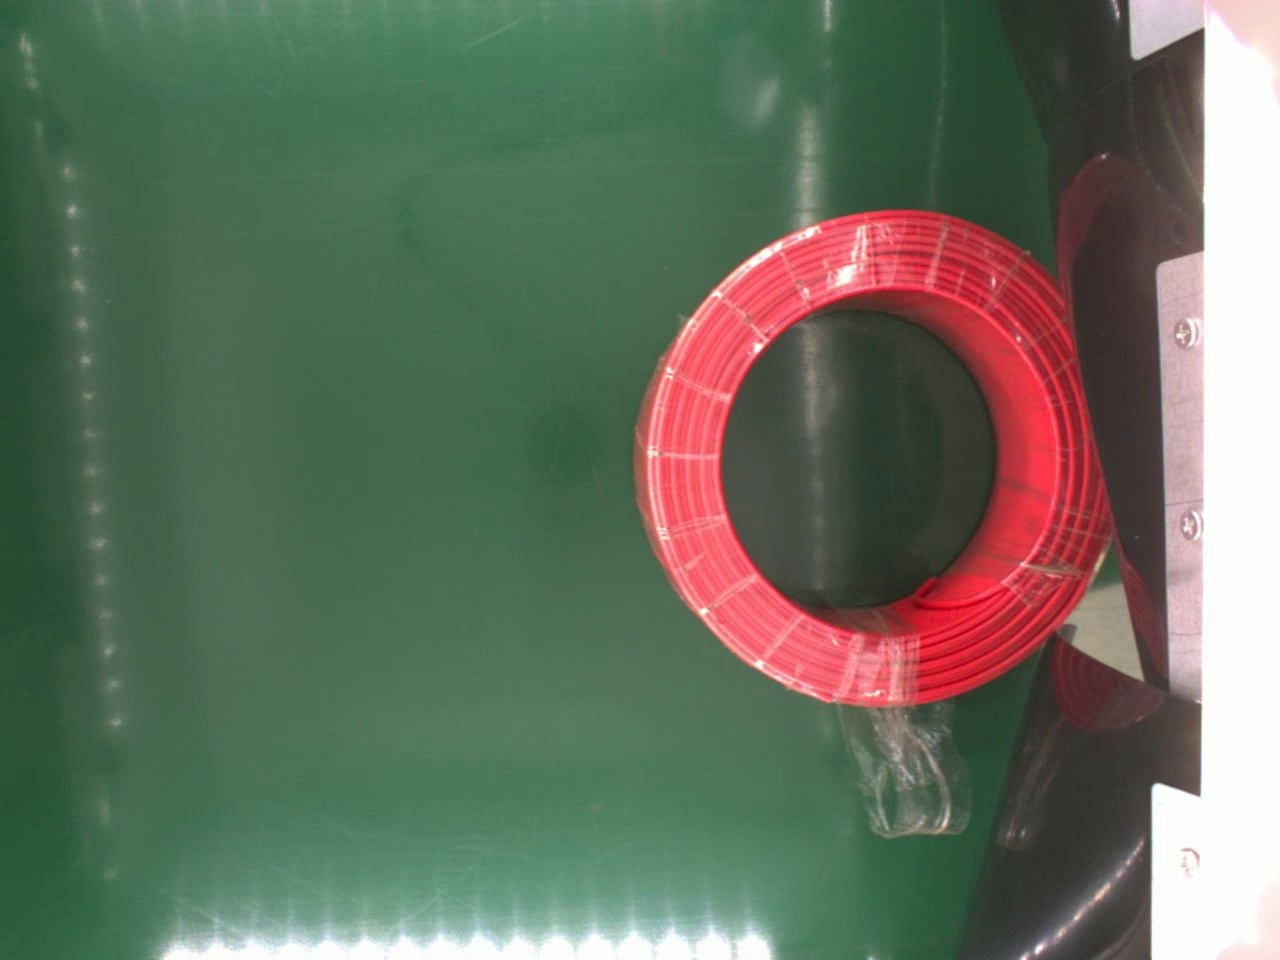red: (626, 207, 1111, 708)
